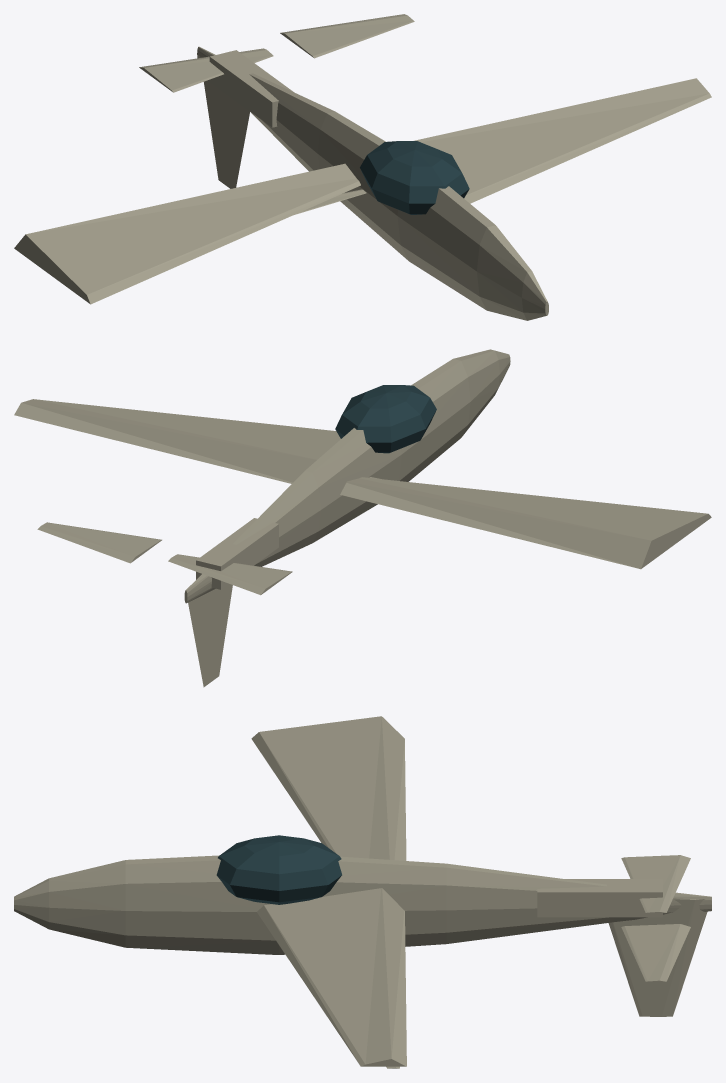
3 views of the same model, one above another, from view 1: azimuth 30°, elevation 25°; view 2: azimuth 150°, elevation 25°; view 3: azimuth 270°, elevation 25° (orthographic). The views are drawn at different scales.
Parts seen in each view (by area): view 1: Fuselage, Wing_L, Wing_R, Cockpit, Rudder, TailBoom, Elevator_R, Elevator_L; view 2: Fuselage, Wing_L, Wing_R, Cockpit, Rudder, TailBoom, Elevator_R, Elevator_L; view 3: Fuselage, Wing_R, Wing_L, Cockpit, Rudder, TailBoom, Elevator_R, Elevator_L.
Part boxes in pixels (left/top/right/bottom): Fuselage: left=197, top=46, right=548, bottom=320; Wing_L: left=14, top=163, right=360, bottom=304; Wing_R: left=414, top=78, right=711, bottom=203; Cockpit: left=360, top=141, right=469, bottom=214; Rudder: left=204, top=79, right=249, bottom=188; TailBoom: left=209, top=50, right=293, bottom=127; Elevator_R: left=280, top=14, right=414, bottom=58; Elevator_L: left=139, top=48, right=273, bottom=92; Fuselage: left=184, top=349, right=510, bottom=603; Wing_L: left=340, top=477, right=711, bottom=569; Wing_R: left=14, top=399, right=340, bottom=483; Cockpit: left=335, top=385, right=436, bottom=453; Rudder: left=188, top=584, right=232, bottom=687; TailBoom: left=196, top=518, right=278, bottom=589; Elevator_R: left=37, top=522, right=161, bottom=563; Elevator_L: left=168, top=554, right=292, bottom=595; Fuselage: left=14, top=855, right=711, bottom=954; Wing_R: left=257, top=888, right=406, bottom=1066; Wing_L: left=251, top=716, right=406, bottom=860; Cockpit: left=216, top=835, right=341, bottom=904; Rudder: left=608, top=899, right=707, bottom=1016; TailBoom: left=537, top=879, right=662, bottom=917; Elevator_R: left=621, top=924, right=690, bottom=981; Elevator_L: left=621, top=855, right=690, bottom=912.
Size of the model in its own units: 10.08 by 2.48 by 9.
